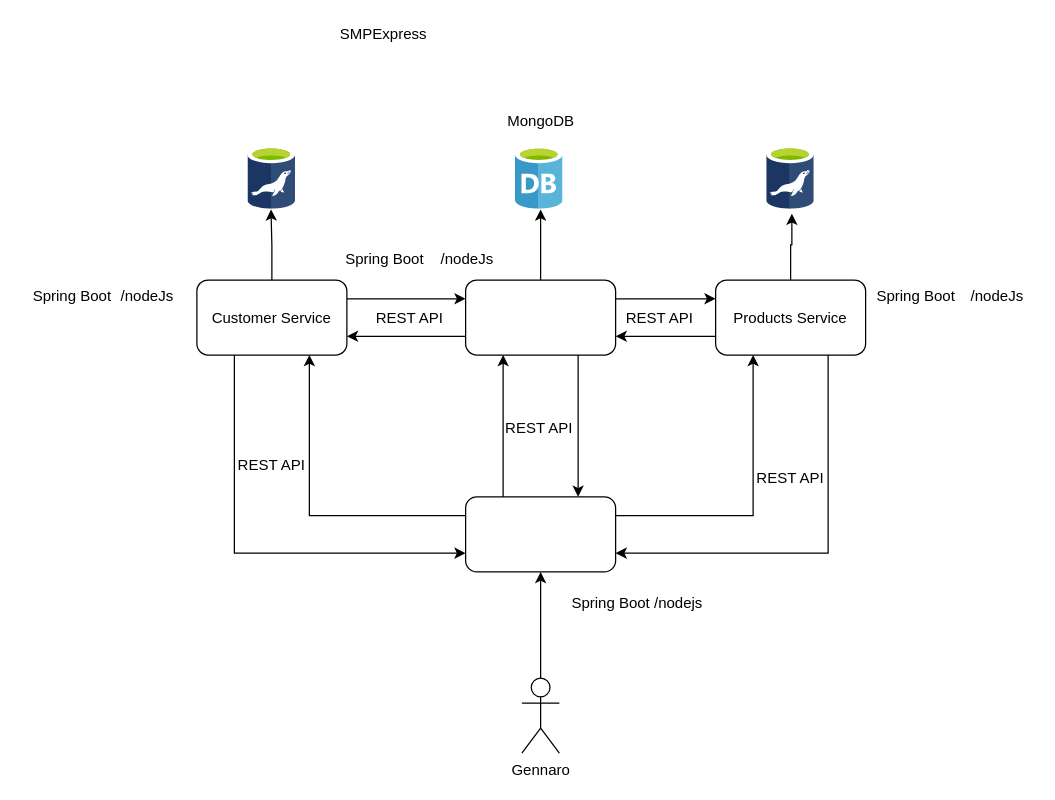
Some shapes in this 1055 by 800 pixel diagram are drawn without their labels. Here are the shapes that lost their labels. From the top down, the centre of each, then its label:
point (540, 317): Order Service
point (540, 534): Access Service
